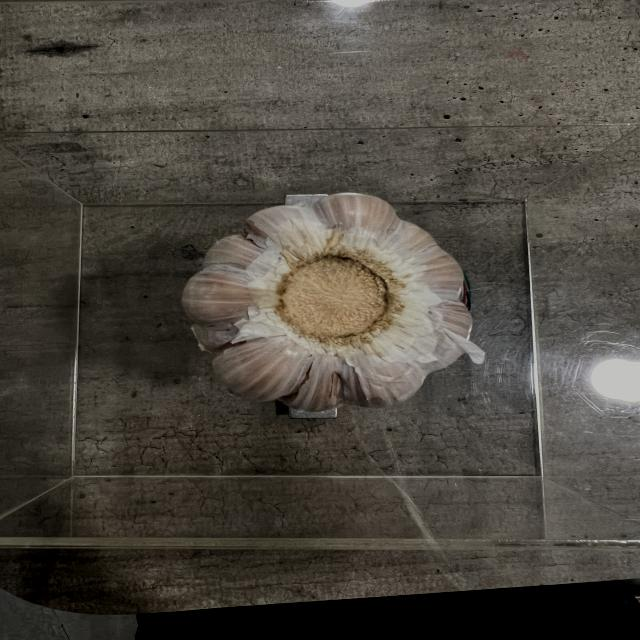garlic: (182, 192, 464, 410)
